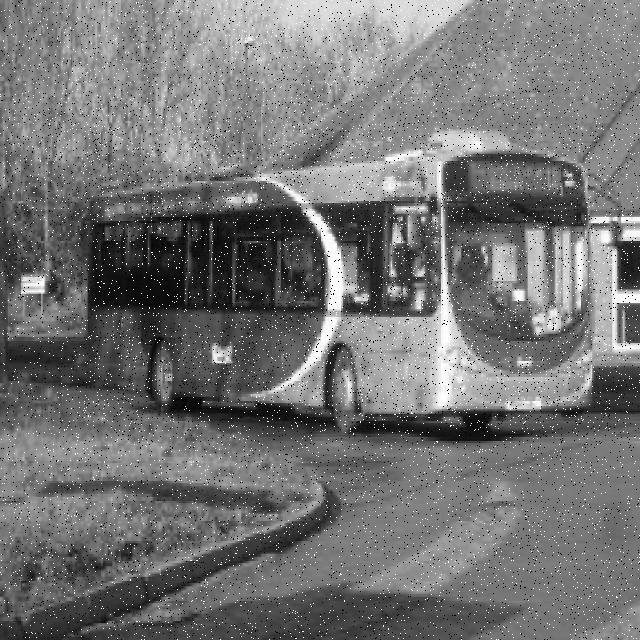Bus: (84, 129, 629, 434)
